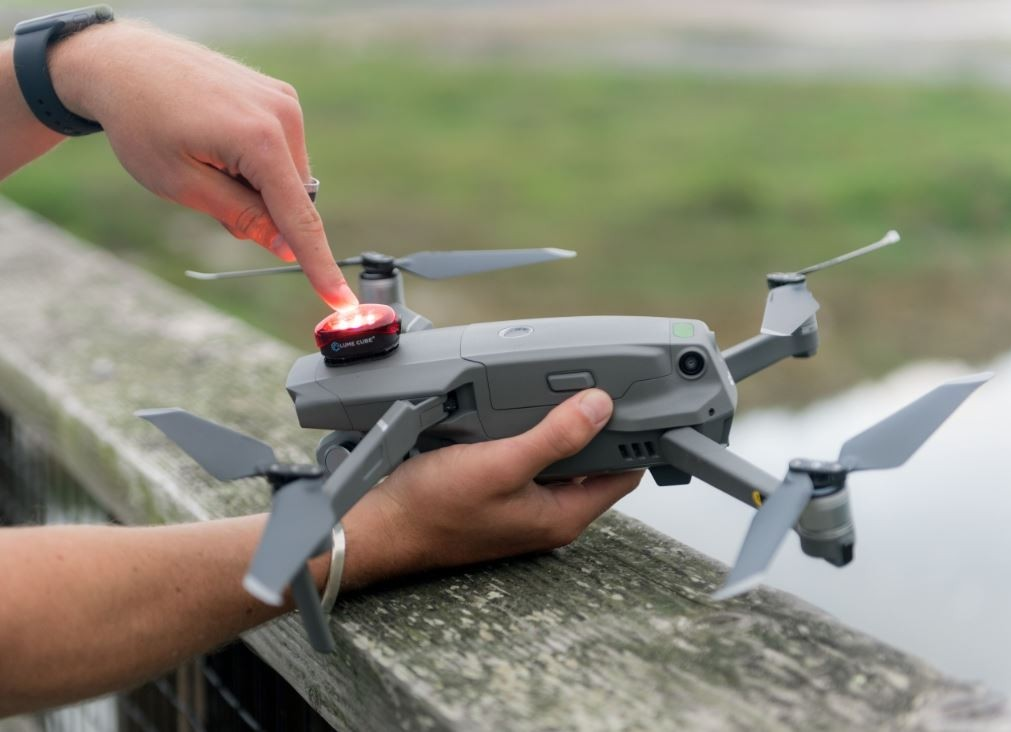drone: (130, 238, 991, 616)
